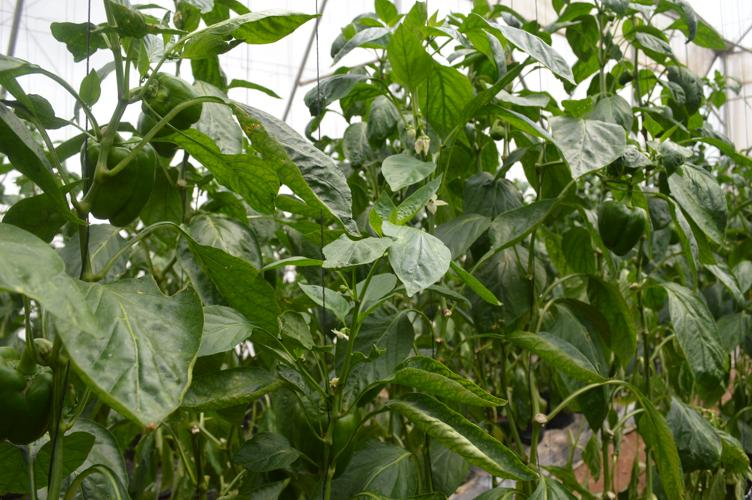BellPepper: (79, 135, 157, 229), (1, 346, 59, 441), (289, 398, 354, 479), (592, 203, 647, 255), (145, 76, 202, 121), (137, 118, 181, 157)
